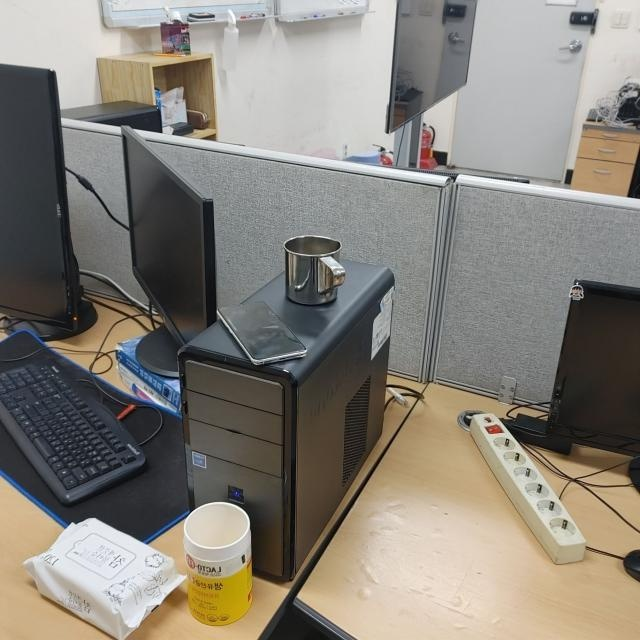cup: (284, 234, 347, 306)
phone: (215, 299, 309, 366)
